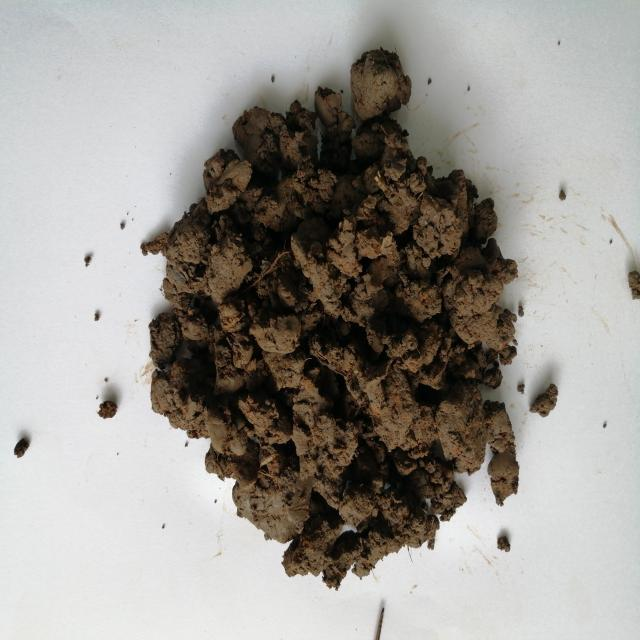soil: (219, 177, 461, 490)
